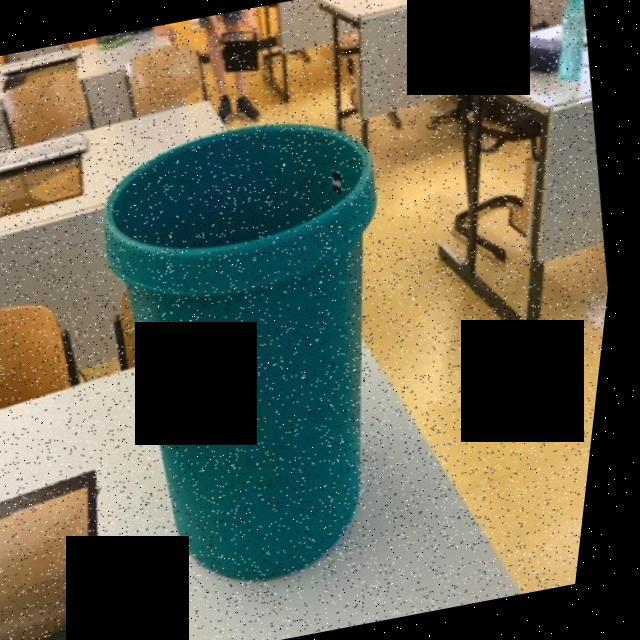bin: (32, 71, 501, 609)
